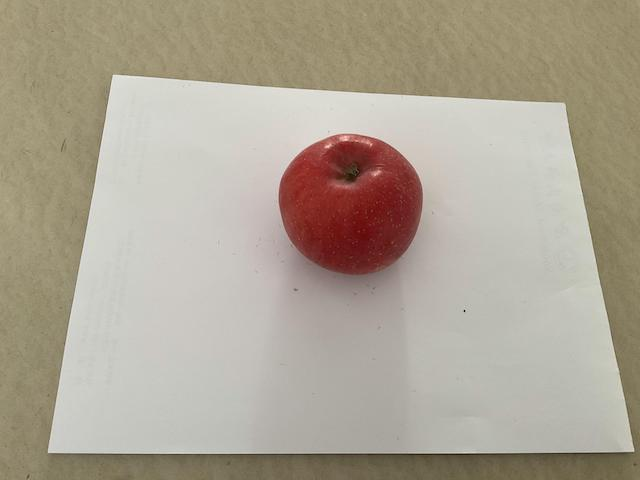apple: (272, 127, 426, 278)
